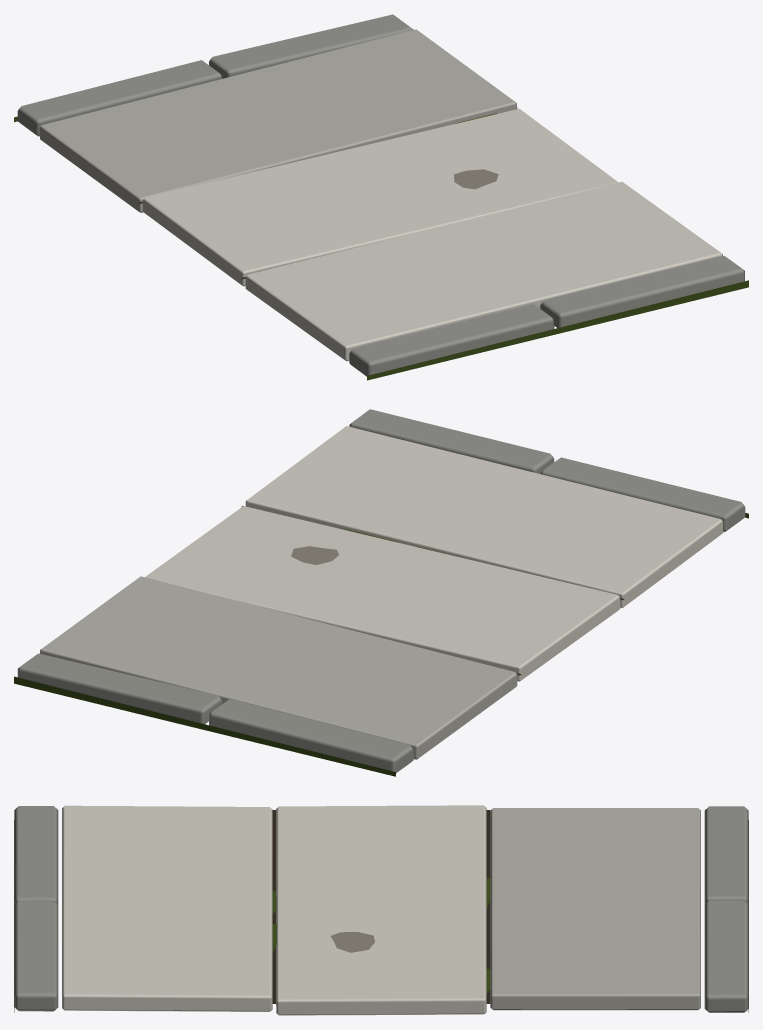
The model's file is paving_strip@2.glb.
3 views of the same model, one above another, from view 1: azimuth 30°, elevation 25°; view 2: azimuth 150°, elevation 25°; view 3: azimuth 270°, elevation 25° (orthographic). The views are drawn at different scales.
Parts seen in each view (by area): view 1: pflaster; view 2: pflaster; view 3: pflaster.
Part boxes in pixels (<box>): pflaster: <box>14,14,748,380</box>; pflaster: <box>14,409,748,776</box>; pflaster: <box>14,805,748,1015</box>.
Bounding box in the file's own units: 1 × 0.0547 × 1.6.
